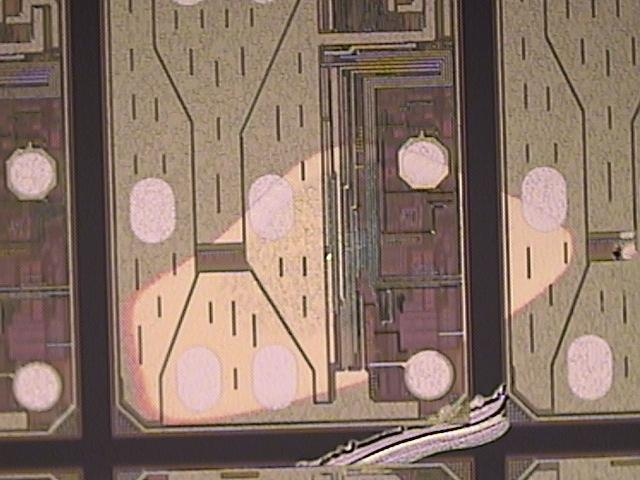COATING BAD: (117, 133, 587, 480)
